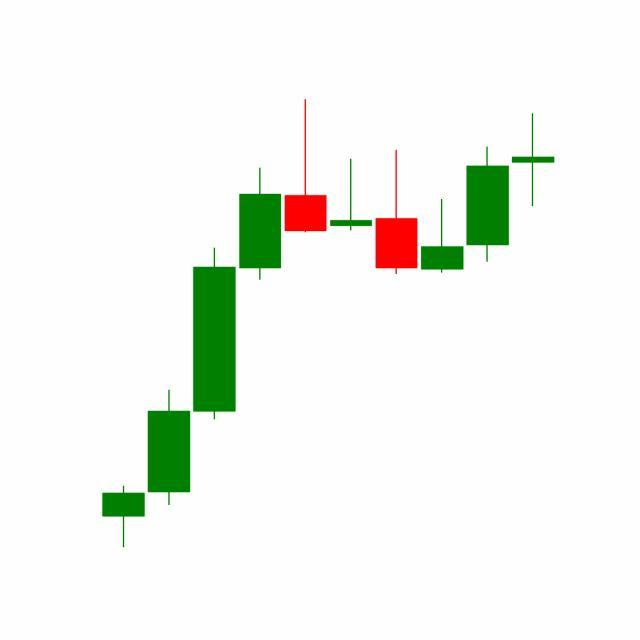Hikkake Pattern: (283, 100, 512, 279)
